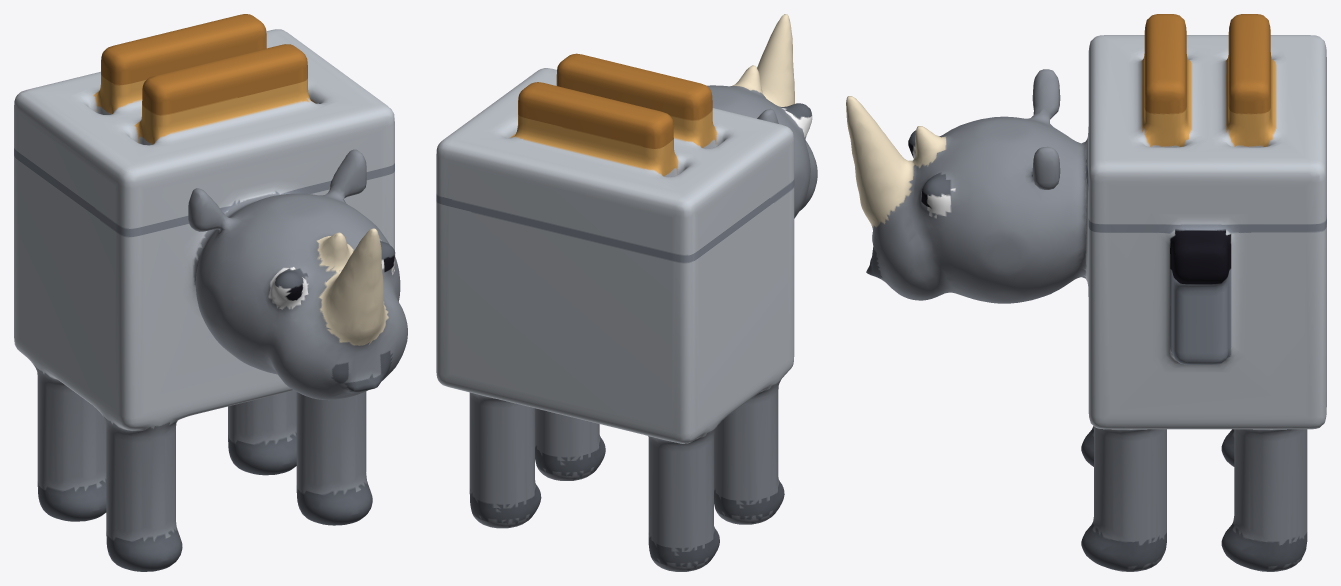
Rendered from SM_Rhino_Toasterino.fbx.
3 views of the same model, side by side, from view 1: azimuth 30°, elevation 25°; view 2: azimuth 150°, elevation 25°; view 3: azimuth 270°, elevation 25° (orthographic). The views are drawn at different scales.
Visible parts, largest first — view 1: Rhino_Toasterino; view 2: Rhino_Toasterino; view 3: Rhino_Toasterino.
Part boxes in pixels (x1=…): Rhino_Toasterino: x1=14, y1=14, x2=407, y2=571; Rhino_Toasterino: x1=436, y1=14, x2=817, y2=571; Rhino_Toasterino: x1=846, y1=14, x2=1326, y2=571.
Size of the model in its own units: 0.7799 by 1.11 by 1.03.
1 material, 1 textured.
